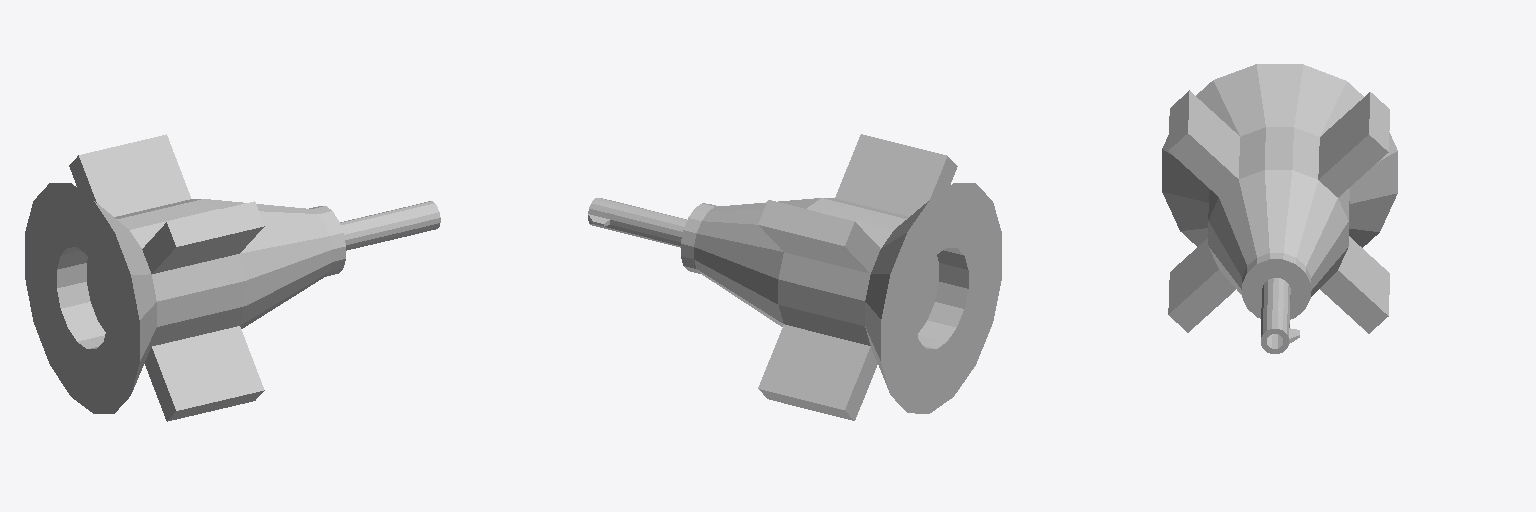
Rendered from Laser.obj.
3 renders of one model, left to right at view 1: azimuth 30°, elevation 25°; view 2: azimuth 150°, elevation 25°; view 3: azimuth 270°, elevation 25°, orthographic.
Parts seen in each view (by area): view 1: Cylinder; view 2: Cylinder; view 3: Cylinder.
Part boxes in pixels (bbox=[...]): Cylinder: bbox=[25, 134, 440, 421]; Cylinder: bbox=[588, 134, 1001, 420]; Cylinder: bbox=[1162, 64, 1397, 353].
Size of the model in its own units: 3.34 by 1.95 by 1.95.